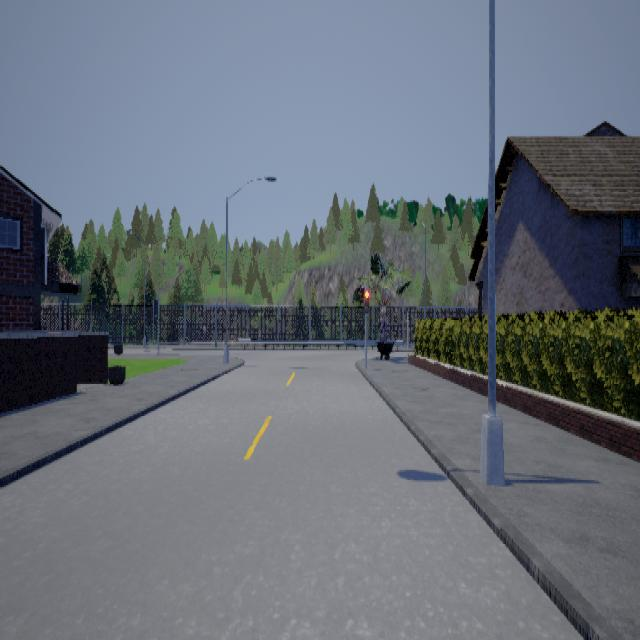red_light: (363, 284, 368, 316)
